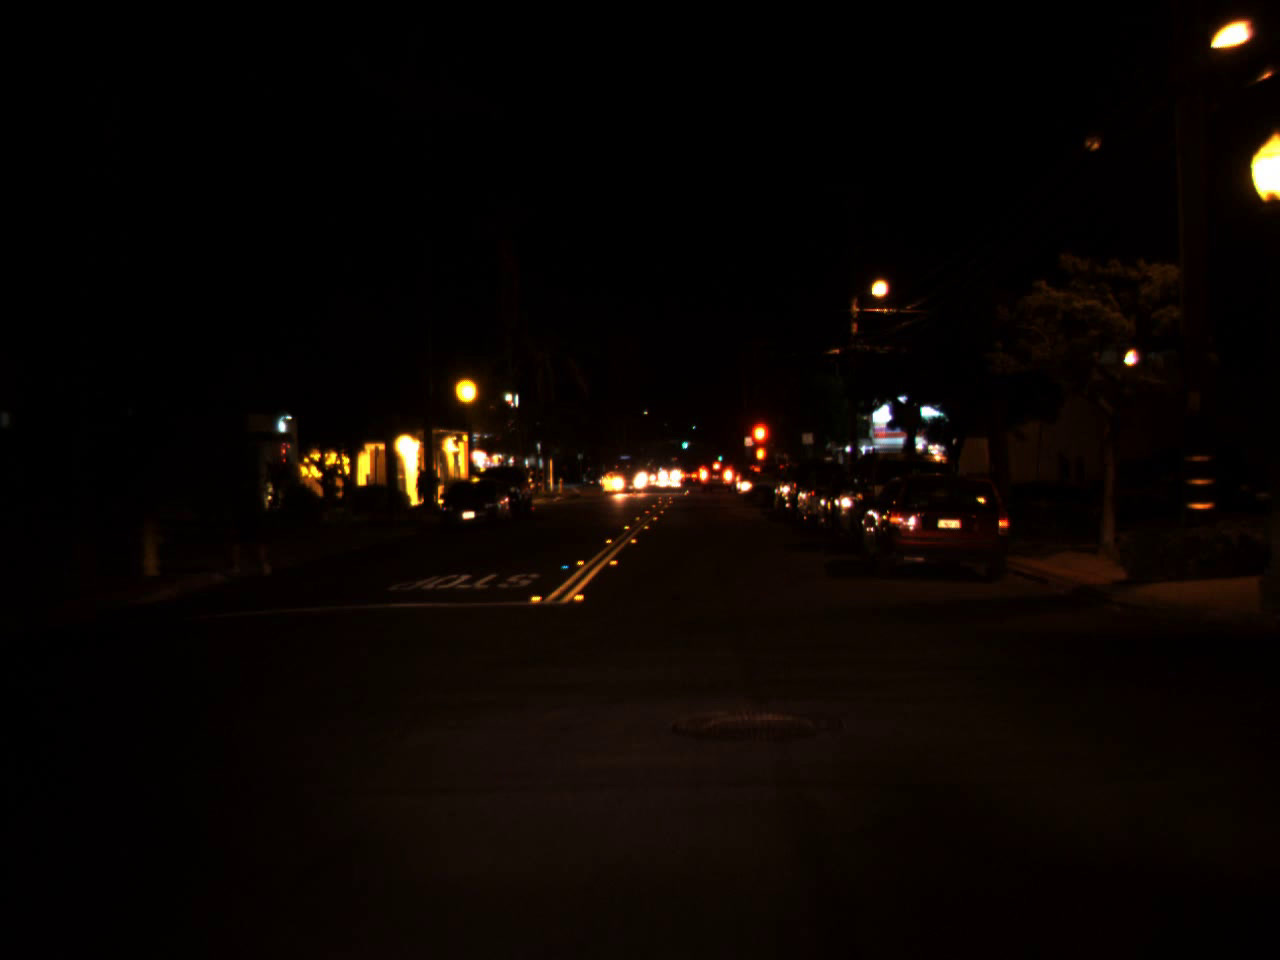go: (679, 434, 688, 449), (715, 448, 724, 463)
stop: (745, 419, 772, 470)
